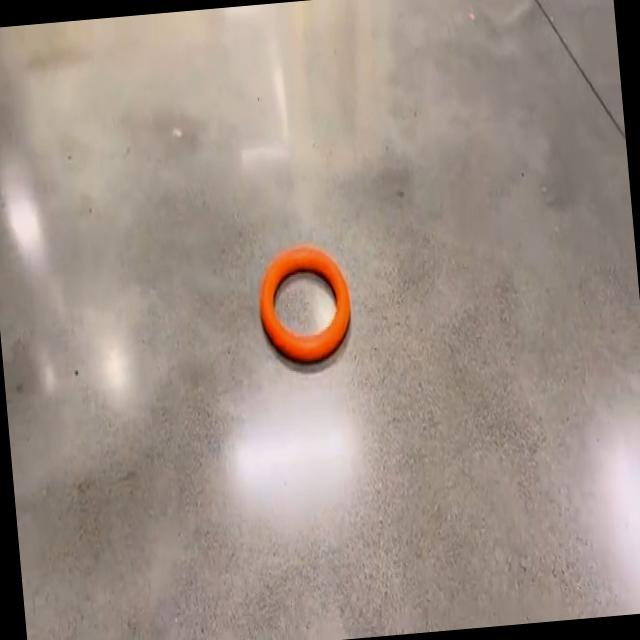note: (259, 243, 350, 359)
